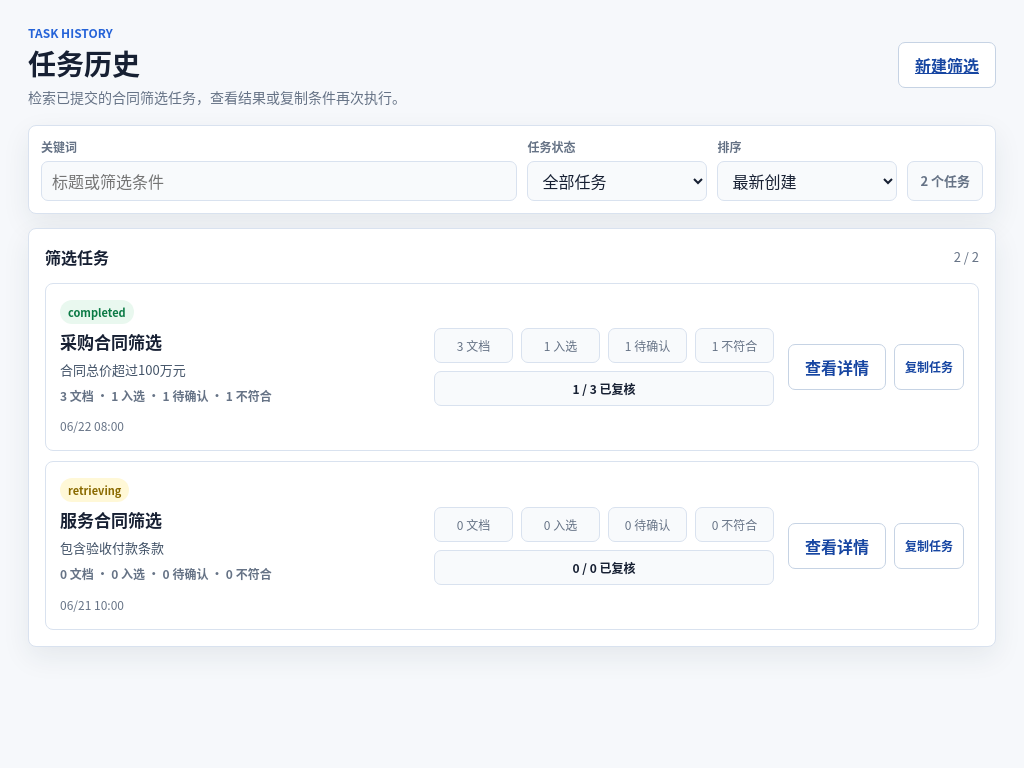
Test case: TaskHistoryPage › shows Redis and RQ guidance when copied task enqueue fails
This screenshot has width=1024, height=768.
Expected: the heading "采购合同筛选" is shown, [60, 329, 162, 354]
Click the button "复制任务" in the row of "合同总价超过100万元" at (929, 367), box [894, 344, 964, 390]
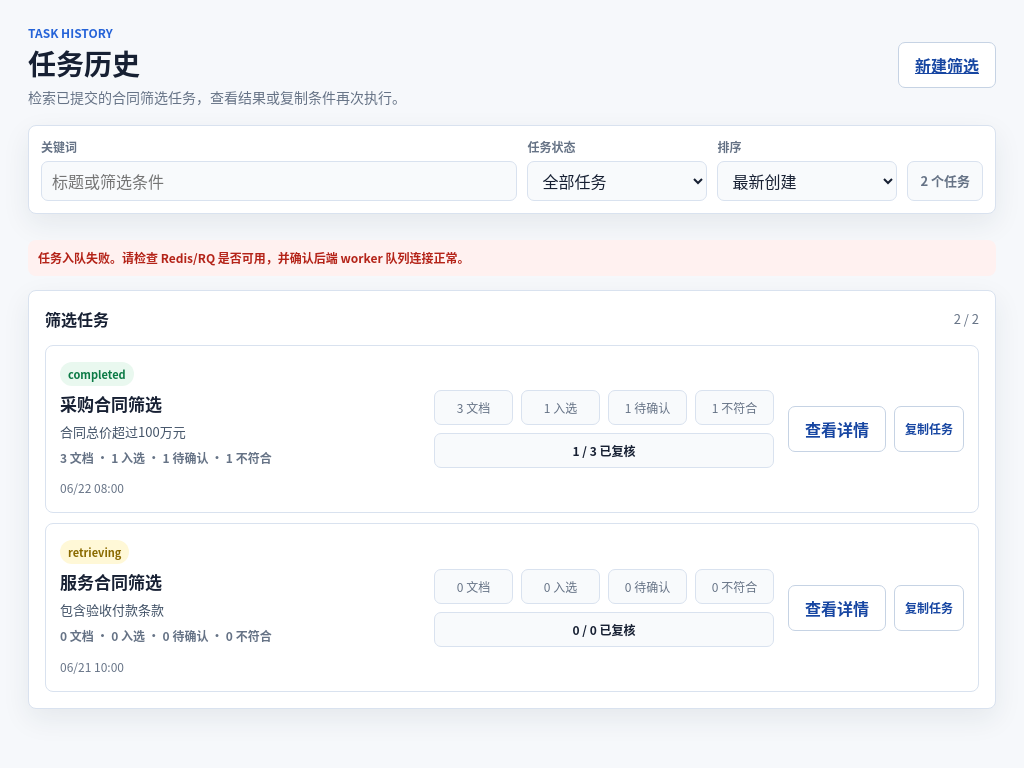
Now the text "任务入队失败。请检查 Redis/RQ 是否可用，并确认后端 worker 队列连接正常。" is shown, box [28, 240, 996, 276]
